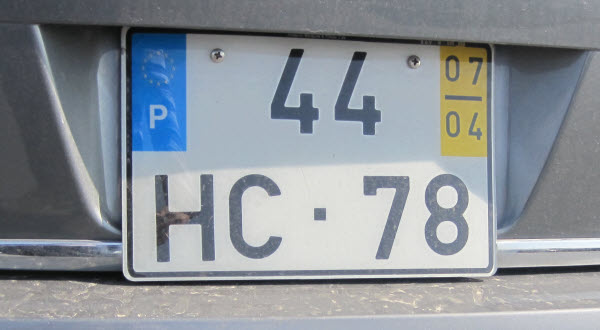license_plate: (124, 23, 494, 275)
